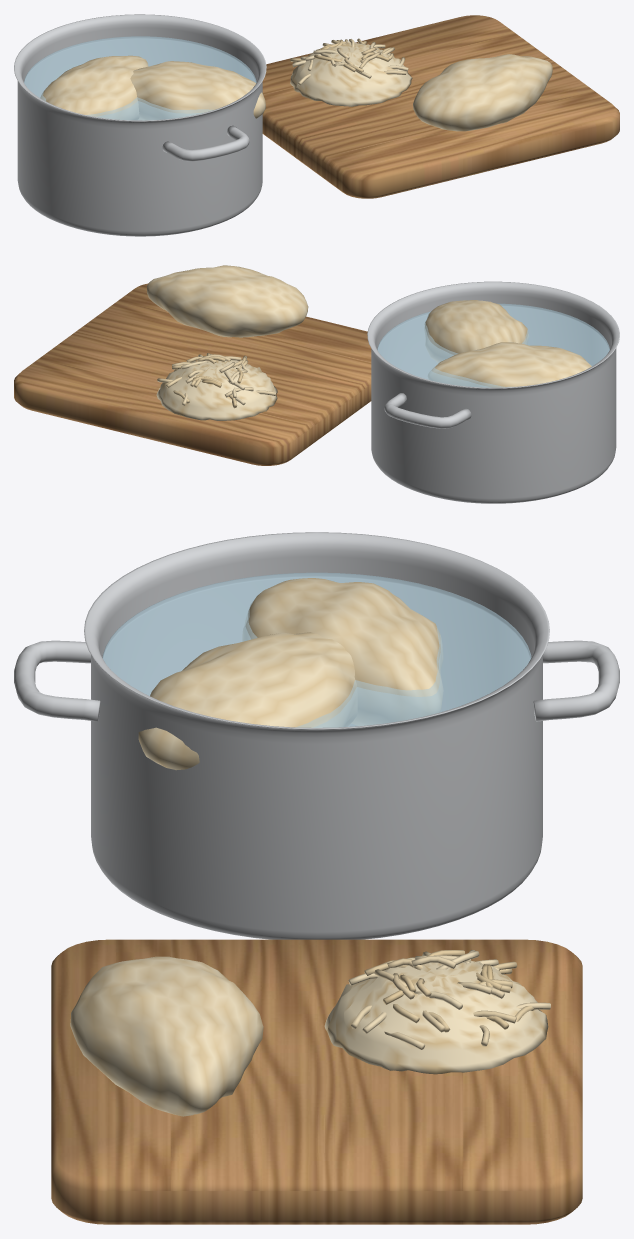
The model's file is paso-1.glb.
The picture shows the model from 3 angles, top to bottom: view 1: azimuth 30°, elevation 25°; view 2: azimuth 150°, elevation 25°; view 3: azimuth 270°, elevation 25°; orthographic projection. The views are drawn at different scales.
Visible parts, largest first — view 1: paso-1-0, paso-1-6, paso-1-48, paso-1-3, paso-1-5, paso-1-7, paso-1-4, paso-1-2; view 2: paso-1-0, paso-1-6, paso-1-48, paso-1-3, paso-1-4, paso-1-7, paso-1-5, paso-1-1; view 3: paso-1-0, paso-1-6, paso-1-3, paso-1-48, paso-1-5, paso-1-4, paso-1-7, paso-1-1, paso-1-2.
Boxes of the visible parts, x1,y1,x2,y2 form: paso-1-0: [14, 14, 266, 236]; paso-1-6: [262, 15, 619, 198]; paso-1-48: [413, 54, 552, 131]; paso-1-3: [24, 36, 256, 120]; paso-1-5: [130, 61, 265, 120]; paso-1-7: [290, 43, 412, 106]; paso-1-4: [40, 55, 148, 119]; paso-1-2: [162, 125, 249, 161]; paso-1-0: [367, 281, 619, 503]; paso-1-6: [14, 283, 371, 465]; paso-1-48: [147, 265, 308, 337]; paso-1-3: [377, 303, 609, 387]; paso-1-4: [428, 342, 591, 387]; paso-1-7: [156, 360, 277, 420]; paso-1-5: [424, 300, 528, 362]; paso-1-1: [384, 393, 471, 428]; paso-1-0: [84, 532, 549, 939]; paso-1-6: [51, 939, 582, 1224]; paso-1-3: [102, 572, 531, 727]; paso-1-48: [70, 956, 263, 1116]; paso-1-5: [138, 632, 357, 770]; paso-1-4: [242, 578, 443, 725]; paso-1-7: [324, 962, 548, 1074]; paso-1-1: [533, 640, 619, 721]; paso-1-2: [14, 640, 100, 721].
Size of the model in its own units: 0.4227 by 0.0924 by 0.228.
Materials: 4 (1 with a texture image).
